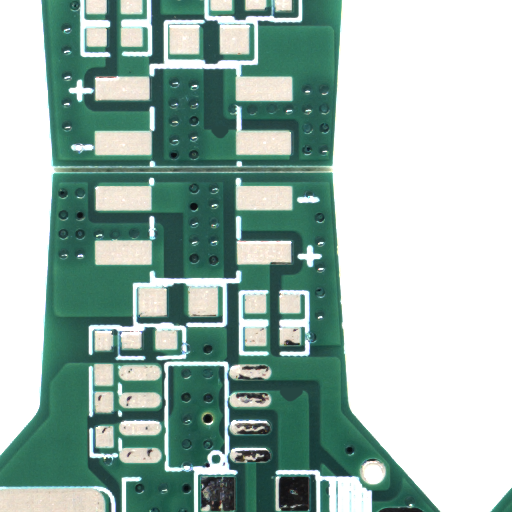Mouse_bite: (290, 396, 314, 410), (221, 133, 238, 144)
